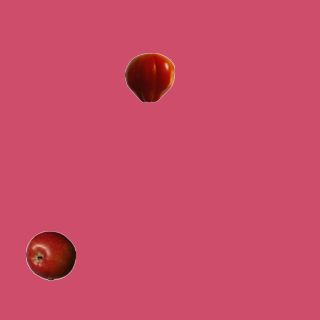Apple Braeburn: (25, 230, 75, 280)
Tomato 1: (124, 52, 174, 102)
